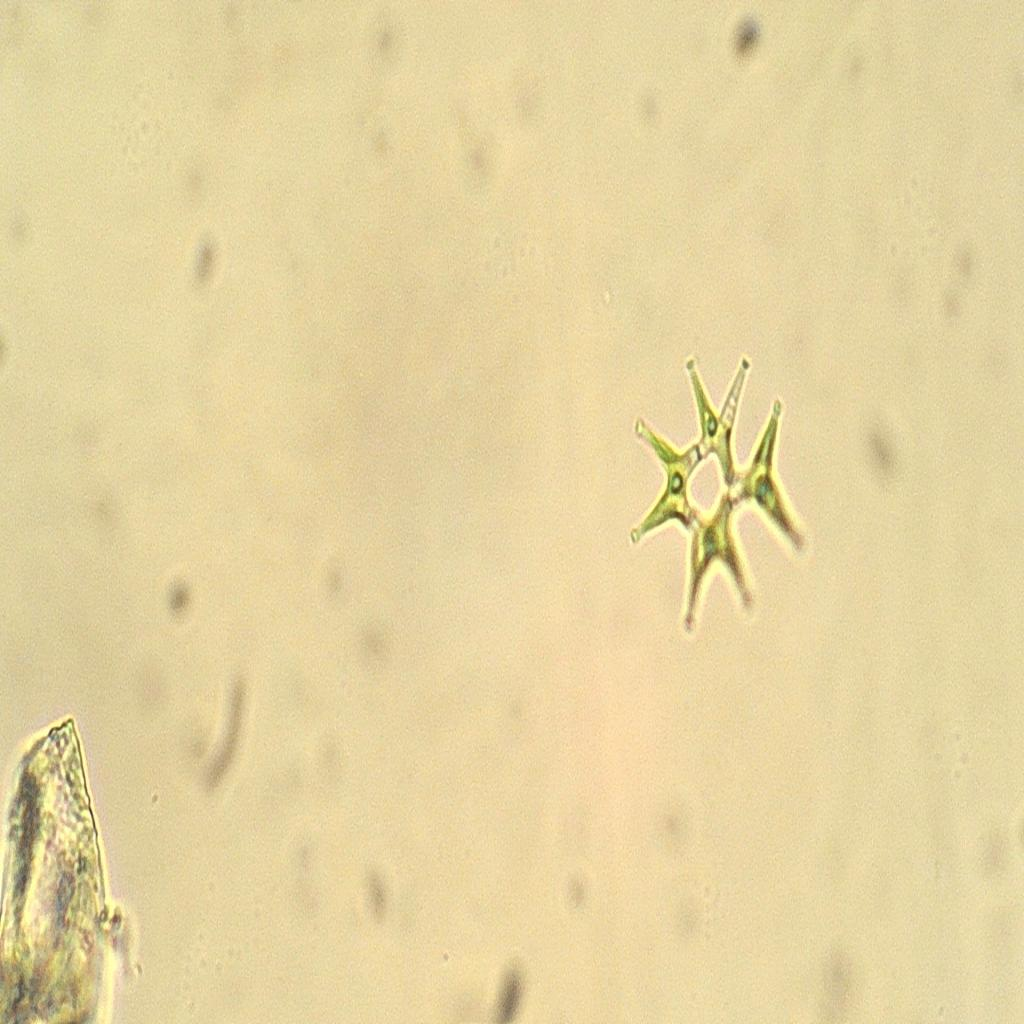Pediastrum_CT: (619, 329, 826, 659)
